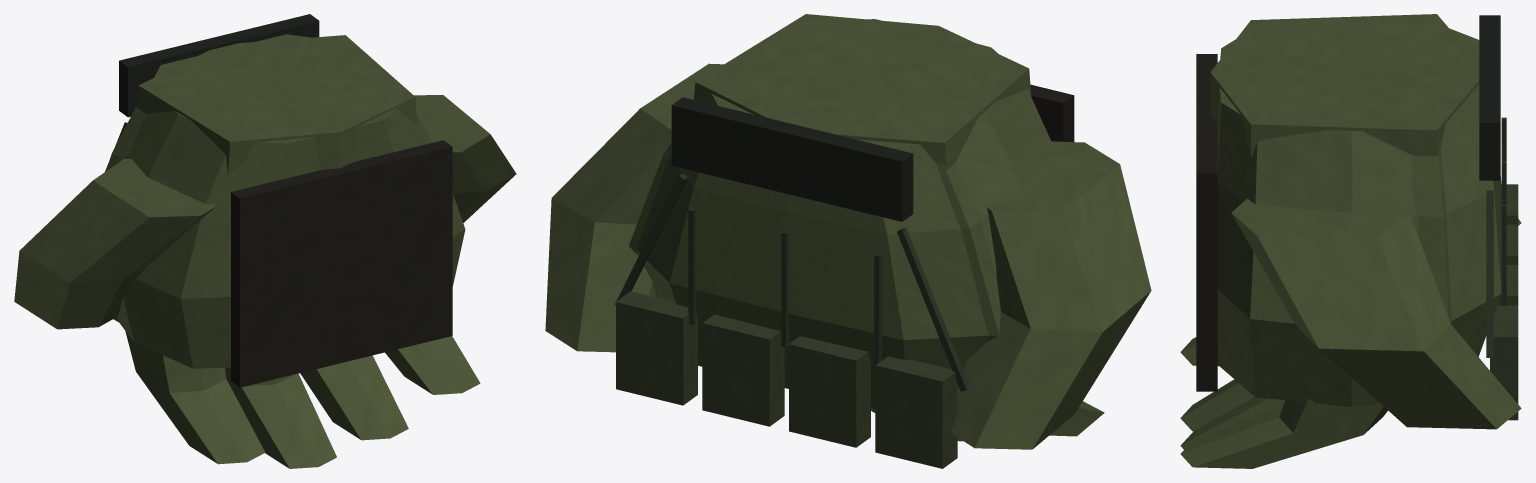
File: gloves_olive.glb
3 renders of one model, left to right at view 1: azimuth 30°, elevation 25°; view 2: azimuth 150°, elevation 25°; view 3: azimuth 270°, elevation 25°, orthographic. The views are drawn at different scales.
Parts seen in each view (by area): view 1: gloves_olive_foreL_LOD0_RAID_glove_olive.001, gloves_olive_foreL_LOD0_RAID_leather.001, gloves_olive_foreL_LOD1_RAID_leather.001, gloves_olive_foreR_LOD0_RAID_glove_olive.001, gloves_olive_foreL_LOD0_RAID_rubber.002, gloves_olive_foreL_LOD1_RAID_rubber.002, gloves_olive_foreL_LOD1_RAID_glove_olive.001; view 2: gloves_olive_foreL_LOD0_RAID_glove_olive.001, gloves_olive_foreR_LOD0_RAID_glove_olive.001, gloves_olive_foreL_LOD0_RAID_reinforce.002, gloves_olive_foreL_LOD0_RAID_rubber.002, gloves_olive_foreL_LOD1_RAID_reinforce.002, gloves_olive_foreL_LOD1_RAID_glove_olive.001, gloves_olive_foreL_LOD0_RAID_seam.002, gloves_olive_foreL_LOD1_RAID_rubber.002, gloves_olive_foreR_LOD0_RAID_seam.002, gloves_olive_foreL_LOD1_RAID_leather.001, gloves_olive_foreL_LOD0_RAID_leather.001; view 3: gloves_olive_foreL_LOD0_RAID_glove_olive.001, gloves_olive_foreL_LOD1_RAID_leather.001, gloves_olive_foreL_LOD0_RAID_leather.001, gloves_olive_foreL_LOD1_RAID_glove_olive.001, gloves_olive_foreL_LOD1_RAID_rubber.002, gloves_olive_foreL_LOD0_RAID_reinforce.002, gloves_olive_foreL_LOD0_RAID_seam.002, gloves_olive_foreL_LOD0_RAID_rubber.002, gloves_olive_foreL_LOD1_RAID_reinforce.002.
Boxes of the visible parts, bbox=[...] form: gloves_olive_foreL_LOD0_RAID_glove_olive.001: bbox=[117, 34, 516, 468]; gloves_olive_foreL_LOD0_RAID_leather.001: bbox=[231, 145, 452, 384]; gloves_olive_foreL_LOD1_RAID_leather.001: bbox=[231, 140, 452, 387]; gloves_olive_foreR_LOD0_RAID_glove_olive.001: bbox=[14, 159, 219, 329]; gloves_olive_foreL_LOD0_RAID_rubber.002: bbox=[119, 18, 319, 111]; gloves_olive_foreL_LOD1_RAID_rubber.002: bbox=[119, 14, 319, 117]; gloves_olive_foreL_LOD1_RAID_glove_olive.001: bbox=[106, 106, 146, 322]; gloves_olive_foreL_LOD0_RAID_glove_olive.001: bbox=[545, 14, 1104, 441]; gloves_olive_foreR_LOD0_RAID_glove_olive.001: bbox=[951, 141, 1151, 449]; gloves_olive_foreL_LOD0_RAID_reinforce.002: bbox=[616, 293, 957, 467]; gloves_olive_foreL_LOD0_RAID_rubber.002: bbox=[671, 103, 913, 218]; gloves_olive_foreL_LOD1_RAID_reinforce.002: bbox=[616, 291, 957, 468]; gloves_olive_foreL_LOD1_RAID_glove_olive.001: bbox=[629, 142, 1000, 340]; gloves_olive_foreL_LOD0_RAID_seam.002: bbox=[615, 173, 881, 369]; gloves_olive_foreL_LOD1_RAID_rubber.002: bbox=[671, 97, 913, 221]; gloves_olive_foreR_LOD0_RAID_seam.002: bbox=[897, 228, 969, 391]; gloves_olive_foreL_LOD1_RAID_leather.001: bbox=[1030, 84, 1074, 141]; gloves_olive_foreL_LOD0_RAID_leather.001: bbox=[1031, 87, 1074, 141]; gloves_olive_foreL_LOD0_RAID_glove_olive.001: bbox=[1180, 14, 1521, 468]; gloves_olive_foreL_LOD1_RAID_leather.001: bbox=[1196, 54, 1217, 391]; gloves_olive_foreL_LOD0_RAID_leather.001: bbox=[1196, 66, 1217, 360]; gloves_olive_foreL_LOD1_RAID_glove_olive.001: bbox=[1412, 149, 1451, 322]; gloves_olive_foreL_LOD1_RAID_rubber.002: bbox=[1479, 15, 1500, 180]; gloves_olive_foreL_LOD0_RAID_reinforce.002: bbox=[1490, 187, 1518, 403]; gloves_olive_foreL_LOD0_RAID_seam.002: bbox=[1486, 117, 1506, 357]; gloves_olive_foreL_LOD0_RAID_rubber.002: bbox=[1479, 26, 1500, 172]; gloves_olive_foreL_LOD1_RAID_reinforce.002: bbox=[1492, 184, 1518, 420].
Bounding box in the file's own units: 0.1719 × 0.115 × 0.0965.
5 materials, 5 textured.
